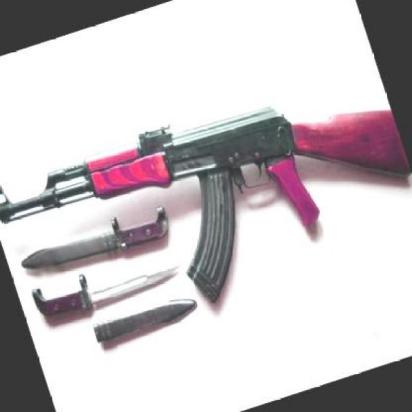Gun: (0, 103, 402, 303)
